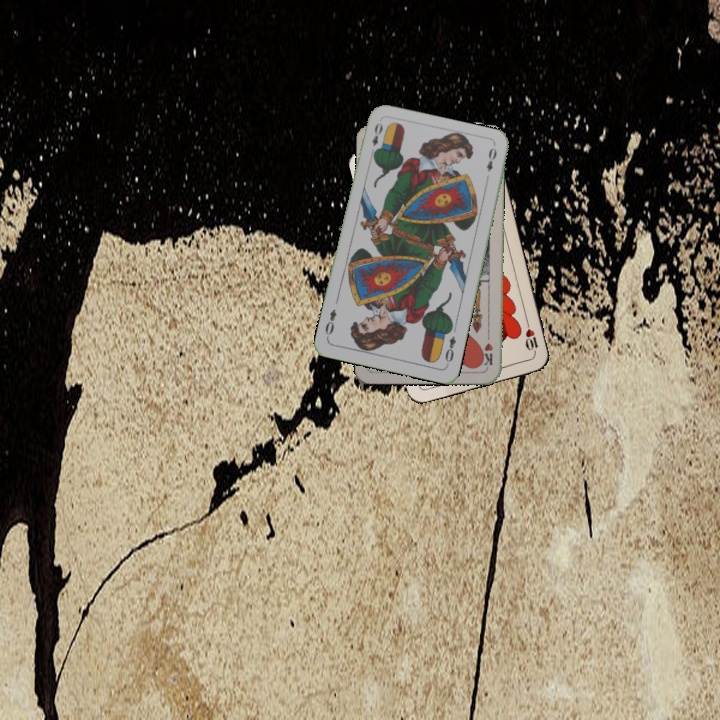EO: (367, 119, 385, 158), (441, 332, 459, 368)
H10: (521, 318, 541, 358)
HK: (479, 328, 496, 368)
